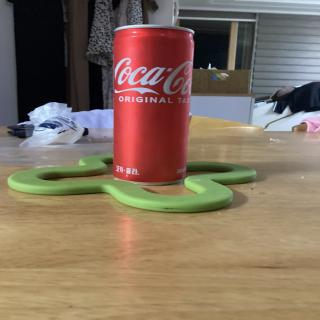cocacola: (107, 22, 195, 187)
